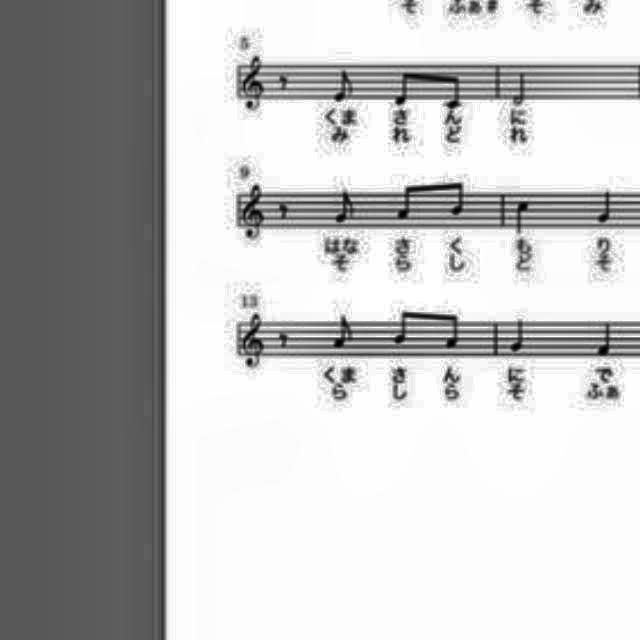Eighth-note: (385, 64, 421, 112), (388, 174, 420, 226), (388, 305, 420, 355), (444, 176, 474, 220), (332, 311, 361, 355), (328, 67, 360, 105), (329, 188, 359, 228), (440, 72, 470, 112), (442, 307, 466, 353)
Eighth-rest: (272, 196, 296, 224), (276, 66, 296, 96), (278, 328, 294, 352)
Half-note: (506, 68, 532, 109)
Quarter-note: (504, 312, 532, 361), (513, 196, 543, 240), (589, 186, 619, 230), (596, 316, 620, 364)
Treble-clef: (233, 178, 274, 246), (236, 54, 276, 118), (239, 310, 269, 378)
